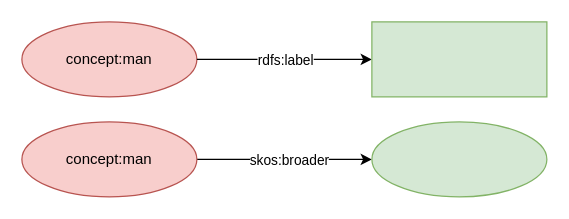
Some shapes in this 569 by 219 pixel diagram are drawn without their labels. Each missing label, with the box of its shape:
"man"@nl: (371, 21, 547, 97)
concept:mens: (371, 121, 547, 197)
